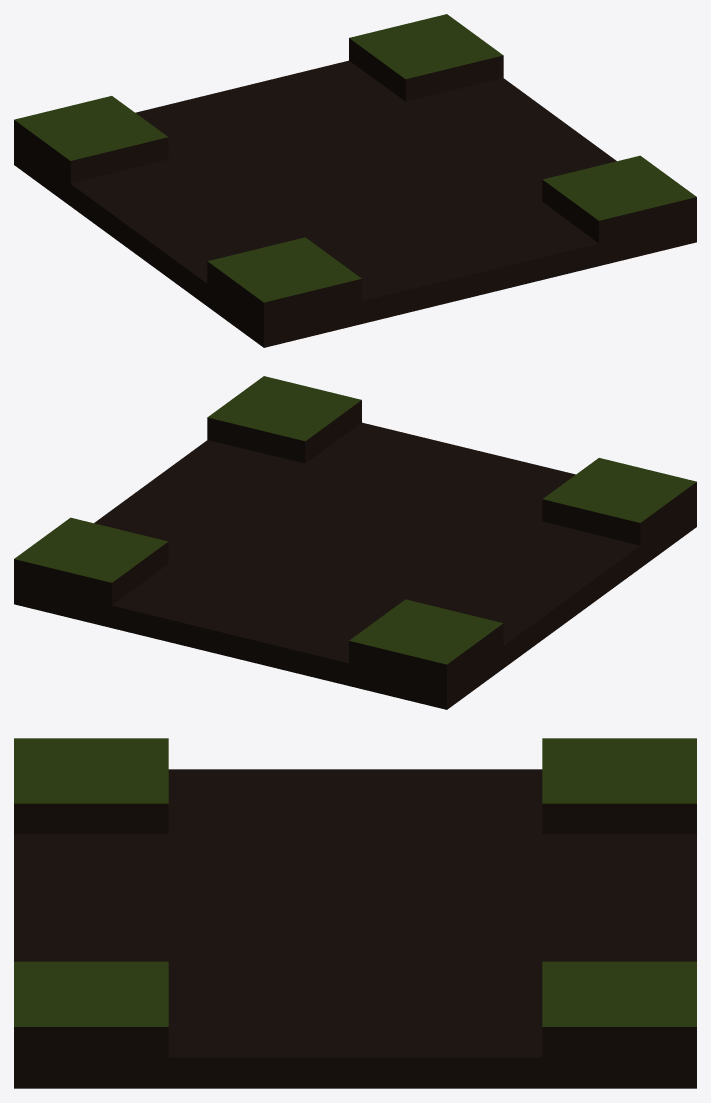
Rendered from tuileHPEnX.fbx.
The picture shows the model from 3 angles, top to bottom: view 1: azimuth 30°, elevation 25°; view 2: azimuth 150°, elevation 25°; view 3: azimuth 270°, elevation 25°; orthographic projection. The views are drawn at different scales.
Visible parts, largest first — view 1: tuileCroix; view 2: tuileCroix; view 3: tuileCroix.
Part boxes in pixels (left/top/right/bottom): tuileCroix: left=14, top=14, right=696, bottom=347; tuileCroix: left=14, top=376, right=696, bottom=709; tuileCroix: left=14, top=738, right=696, bottom=1088.
Bounding box in the file's own units: 20 × 2 × 20.
